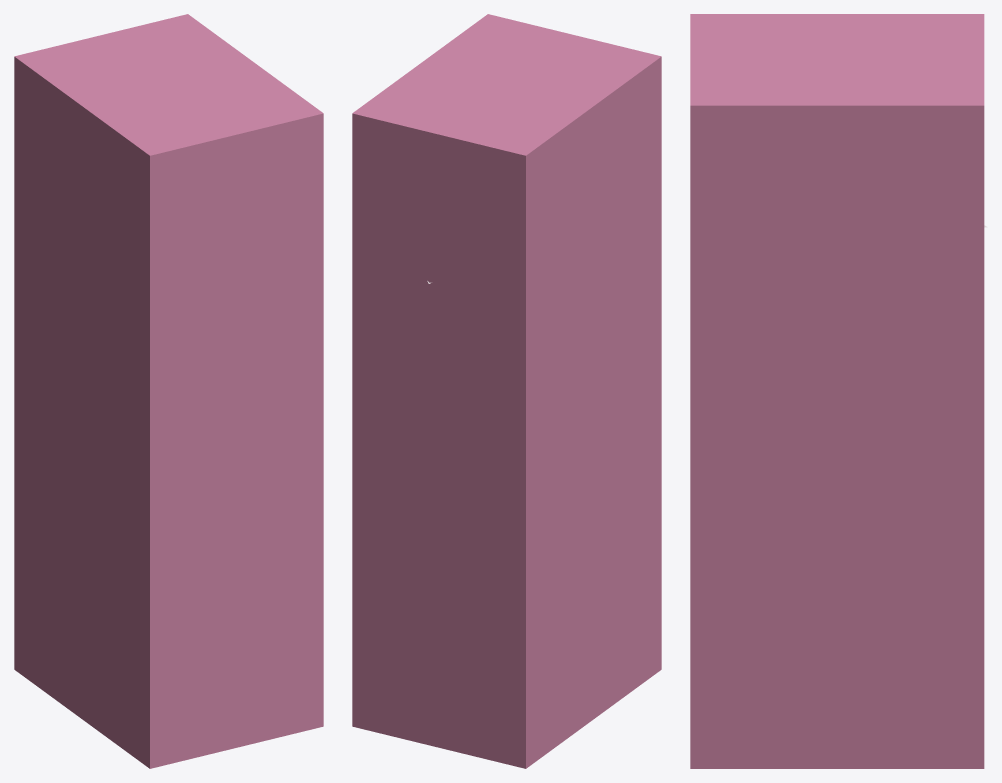
The model's file is tree_oak_forest_a.dae.
3 views of the same model, side by side, from view 1: azimuth 30°, elevation 25°; view 2: azimuth 150°, elevation 25°; view 3: azimuth 270°, elevation 25° (orthographic). The views are drawn at different scales.
Parts seen in each view (by area): view 1: Untitled; view 2: Untitled; view 3: Untitled.
Part boxes in pixels (x1,y1,x2,y2): Untitled: (14,14,323,768); Untitled: (352,14,661,768); Untitled: (690,14,984,768).
Size of the model in its own units: 6.18 by 8.47 by 20.85.
